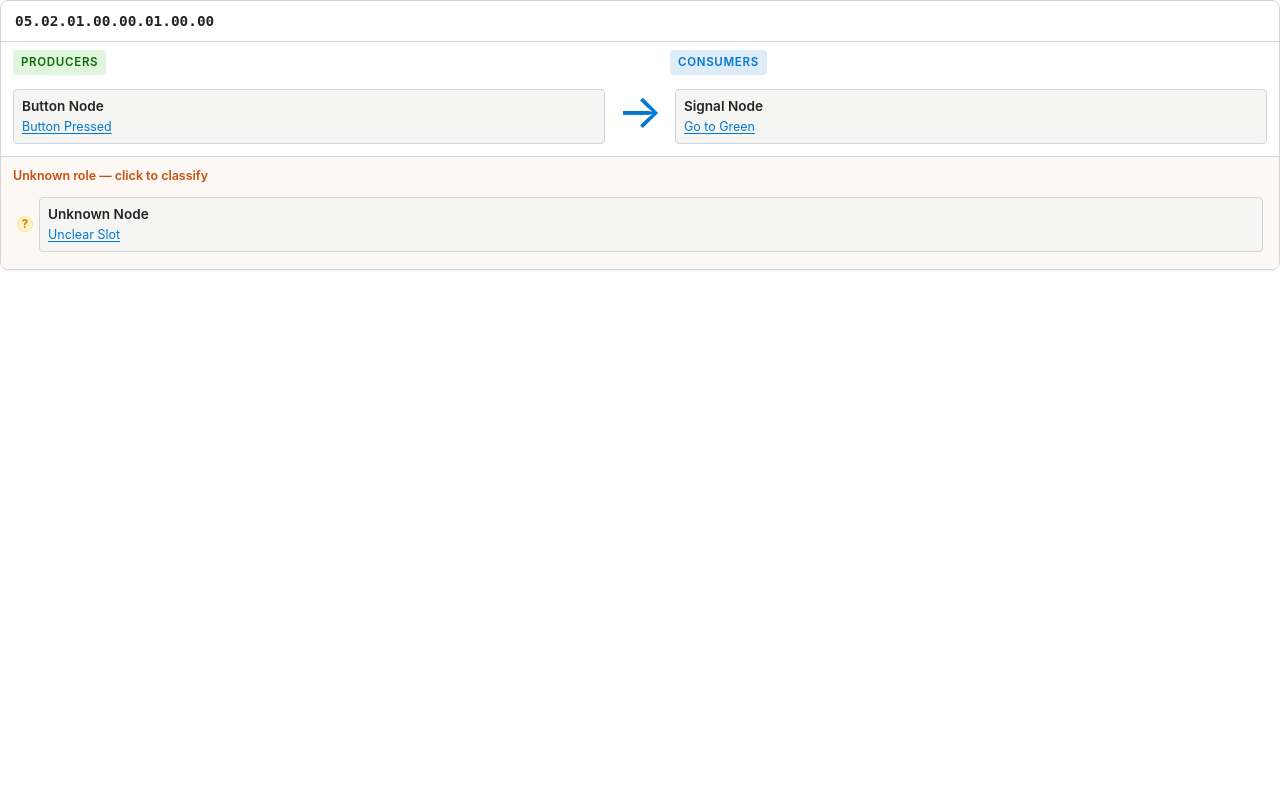
BowtieCard.svelte › keeps ambiguous slot details visible while classify prompt is open
Click the button with aria-label "classify role for unclear slot": (640, 224) [13,194,1267,255]
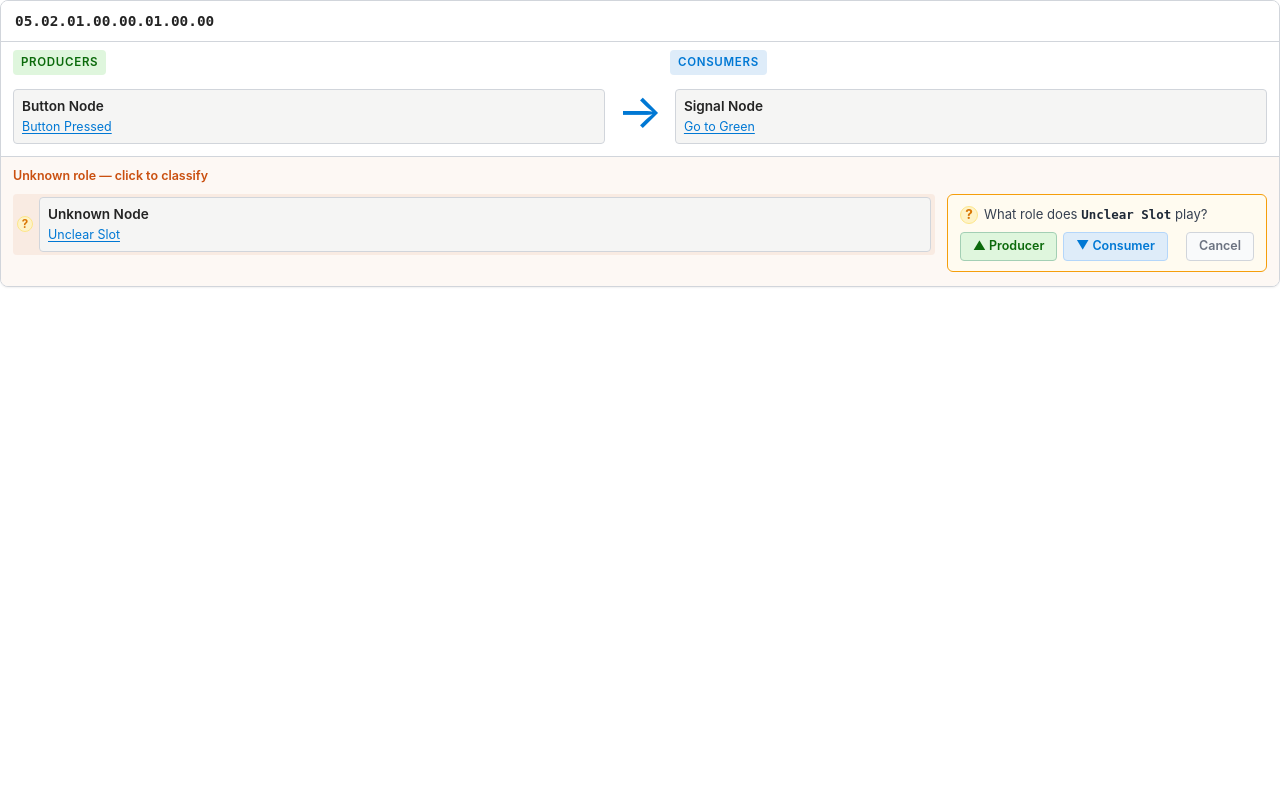
expect the text "Unknown Node" is shown: met, box [48,204,149,224]
expect the button "▲ Producer" is shown: met, box [960,232,1057,261]
